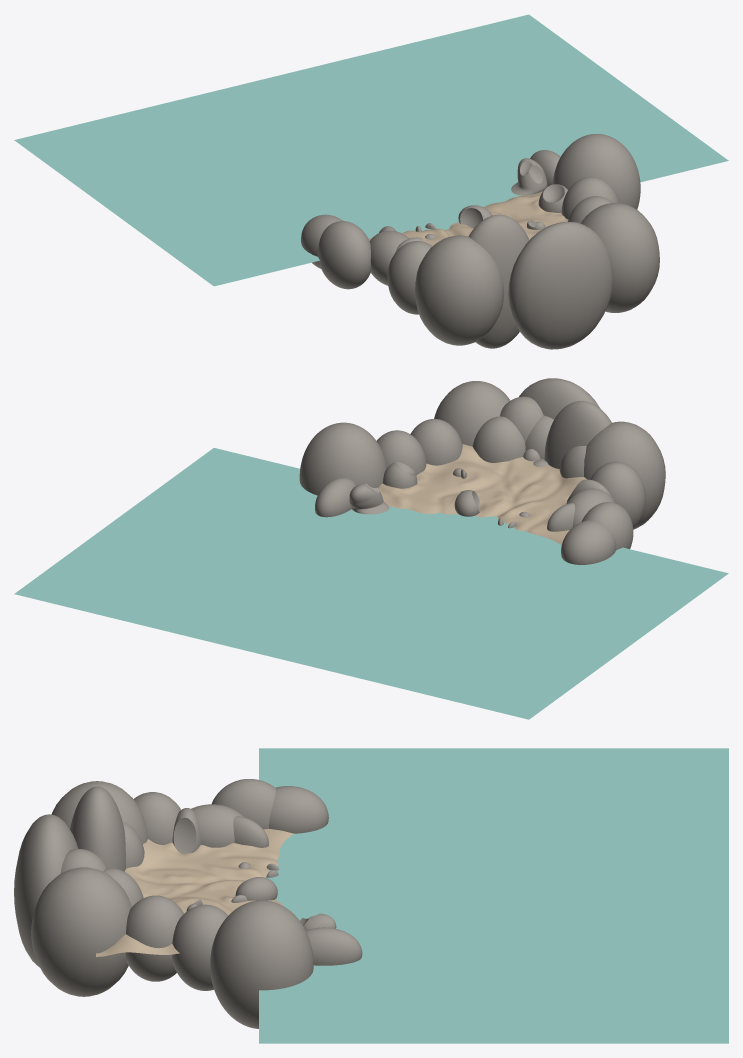
The model's file is BeachConcept-02.fbx.
3 views of the same model, one above another, from view 1: azimuth 30°, elevation 25°; view 2: azimuth 150°, elevation 25°; view 3: azimuth 270°, elevation 25° (orthographic). The views are drawn at different scales.
Parts seen in each view (by area): view 1: pasted__pPlane1, pasted__pasted__pSphere1, pasted__pSphere3, pSphere1, pasted__pasted__pSphere28, pasted__pSphere1, pasted__pasted__pSphere8, pPlane1, pasted__pasted__pSphere3, pasted__pasted__pSphere5, pasted__pSphere2, polySurface4 (+4 smaller); view 2: pasted__pPlane1, pPlane1, pasted__pasted__pSphere28, pasted__pSphere3, pSphere1, pasted__pSphere1, pasted__pasted__pSphere7, pasted__pasted__pSphere3, pasted__pasted__pasted__pSphere1, pasted__pasted__pSphere29, pasted__pasted__pSphere1, pasted__pSphere2 (+10 smaller); view 3: pasted__pPlane1, pSphere1, pasted__pasted__pSphere28, pPlane1, pasted__pasted__pSphere1, pasted__pasted__pSphere29, pasted__pSphere1, pasted__pSphere2, pasted__pasted__pSphere7, pasted__pasted__pSphere8, pasted__pSphere3, pasted__pasted__pSphere11 (+8 smaller).
Boxes of the visible parts, bbox=[...] form: pasted__pPlane1: bbox=[14, 14, 728, 286]; pasted__pasted__pSphere1: bbox=[508, 221, 613, 349]; pasted__pSphere3: bbox=[415, 235, 504, 345]; pSphere1: bbox=[581, 203, 659, 312]; pasted__pasted__pSphere28: bbox=[552, 134, 640, 209]; pasted__pSphere1: bbox=[468, 214, 529, 348]; pasted__pasted__pSphere8: bbox=[318, 221, 370, 289]; pPlane1: bbox=[368, 186, 568, 245]; pasted__pasted__pSphere3: bbox=[387, 241, 432, 314]; pasted__pasted__pSphere5: bbox=[369, 230, 409, 285]; pasted__pSphere2: bbox=[561, 176, 619, 219]; polySurface4: bbox=[511, 158, 547, 195]; pasted__pPlane1: bbox=[14, 448, 728, 719]; pPlane1: bbox=[378, 444, 586, 545]; pasted__pasted__pSphere28: bbox=[299, 422, 386, 495]; pasted__pSphere3: bbox=[583, 421, 665, 529]; pSphere1: bbox=[434, 381, 510, 446]; pasted__pSphere1: bbox=[544, 401, 611, 468]; pasted__pasted__pSphere7: bbox=[561, 520, 616, 564]; pasted__pasted__pSphere3: bbox=[590, 461, 645, 528]; pasted__pasted__pasted__pSphere1: bbox=[472, 416, 525, 462]; pasted__pasted__pSphere29: bbox=[410, 419, 462, 465]; pasted__pasted__pSphere1: bbox=[519, 378, 599, 419]; pasted__pSphere2: bbox=[377, 430, 426, 475]; pasted__pPlane1: bbox=[259, 748, 728, 1043]; pSphere1: bbox=[31, 867, 131, 996]; pasted__pasted__pSphere28: bbox=[210, 900, 313, 1028]; pPlane1: bbox=[96, 828, 294, 956]; pasted__pasted__pSphere1: bbox=[14, 814, 78, 967]; pasted__pasted__pSphere29: bbox=[125, 895, 183, 981]; pasted__pSphere1: bbox=[70, 786, 125, 871]; pasted__pSphere2: bbox=[172, 904, 228, 990]; pasted__pasted__pSphere7: bbox=[269, 786, 328, 833]; pasted__pasted__pSphere8: bbox=[211, 779, 275, 829]; pasted__pSphere3: bbox=[51, 781, 147, 844]; pasted__pasted__pSphere11: bbox=[306, 927, 362, 965].
Bounding box in the file's own units: 16233 × 3958 × 16604.
